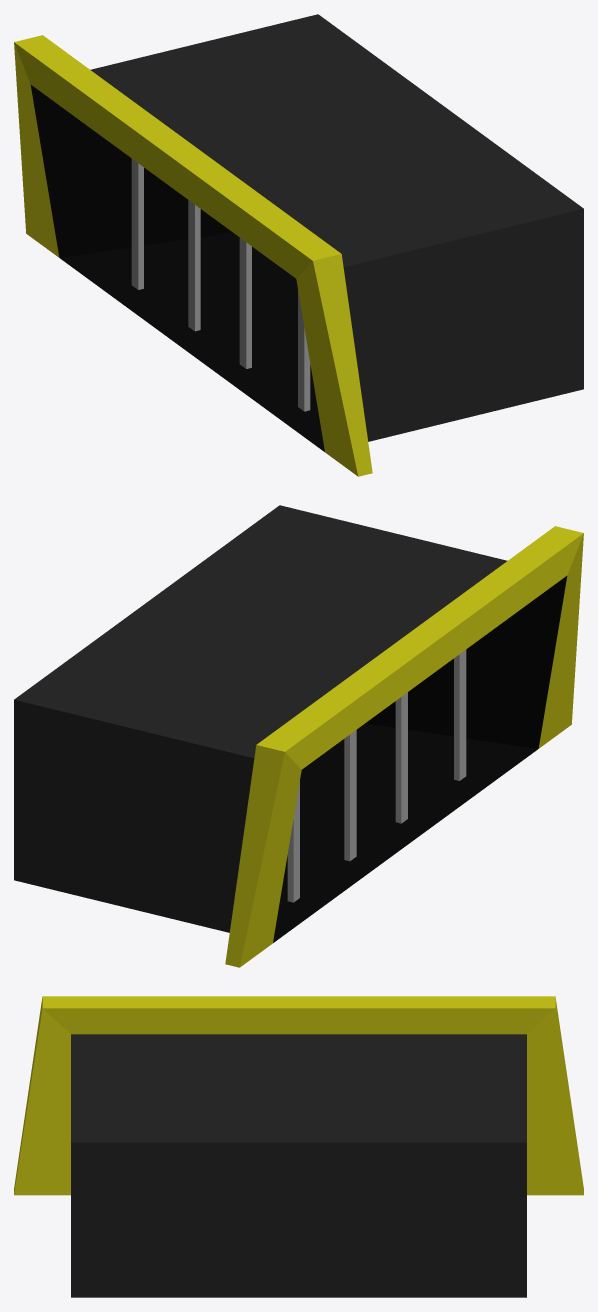
The model's file is closed_drain.gltf.
The picture shows the model from 3 angles, top to bottom: view 1: azimuth 30°, elevation 25°; view 2: azimuth 150°, elevation 25°; view 3: azimuth 270°, elevation 25°; orthographic projection. The views are drawn at different scales.
Visible parts, largest first — view 1: cuboid (×5); view 2: cuboid (×5); view 3: cuboid.
Part boxes in pixels (box(x1,y1,x2,y2)): cuboid (×5): box(14, 14, 583, 476); cuboid (×5): box(14, 505, 583, 967); cuboid: box(14, 996, 583, 1297).
Bounding box in the file's own units: 0.625 × 0.4375 × 1.25.
Materials: 1 (1 with a texture image).
